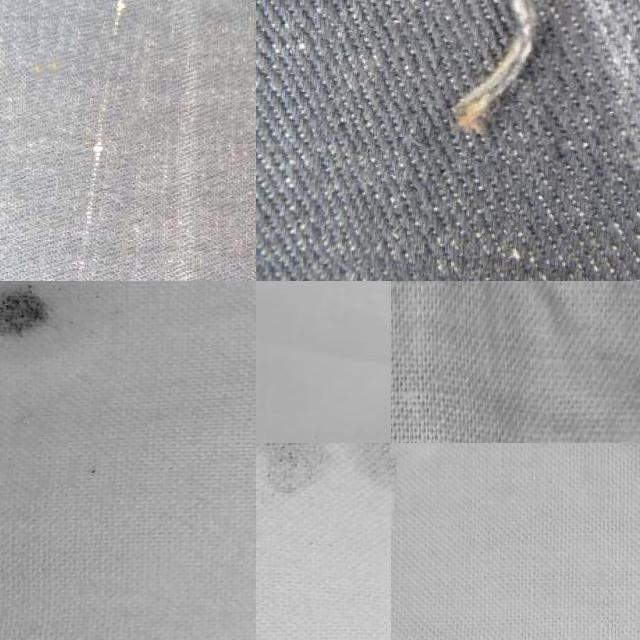Thread_other: (256, 435, 394, 621), (48, 424, 148, 510), (0, 281, 83, 376)
stains: (317, 0, 640, 281), (14, 0, 139, 281)
